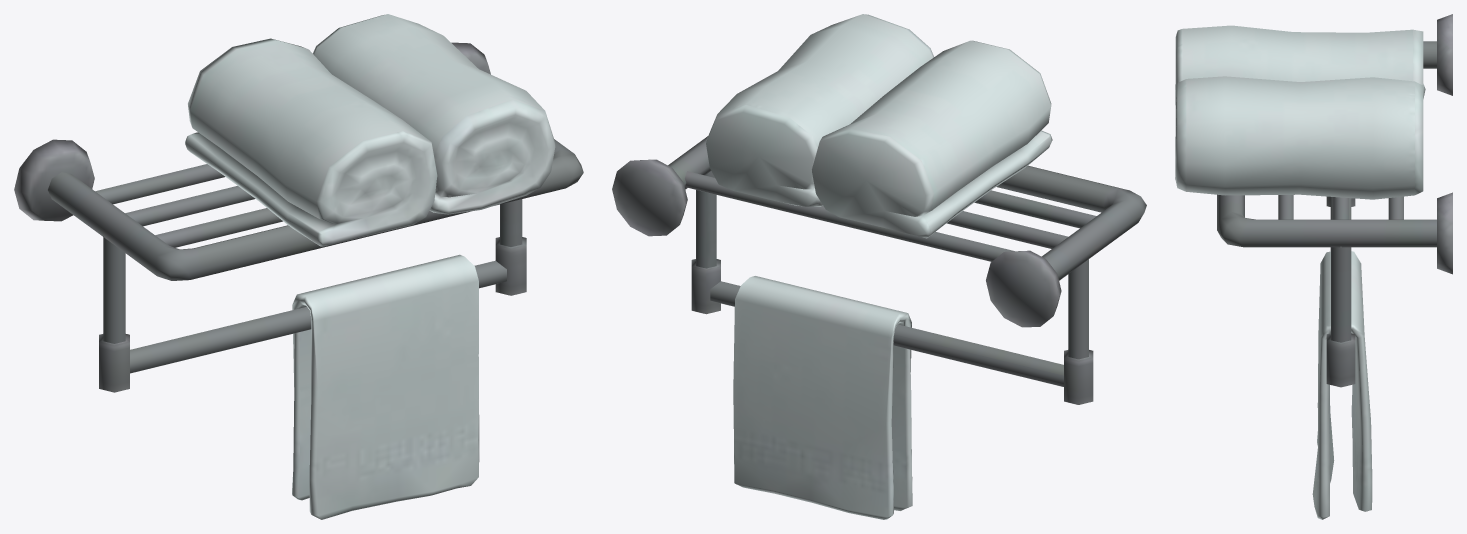
3 renders of one model, left to right at view 1: azimuth 30°, elevation 25°; view 2: azimuth 150°, elevation 25°; view 3: azimuth 270°, elevation 25°, orthographic. The views are drawn at different scales.
Size of the model in its own units: 7.8 by 7.03 by 4.29.
1 material, 1 textured.
